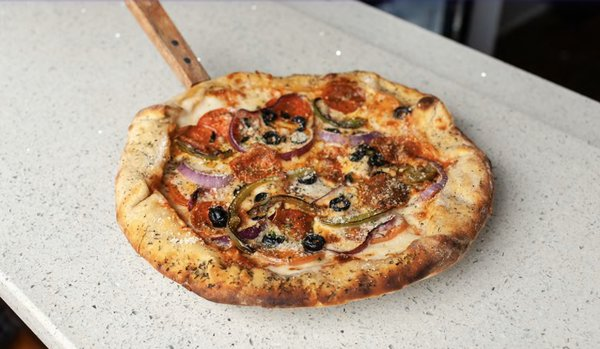sandwich: (111, 69, 496, 307)
